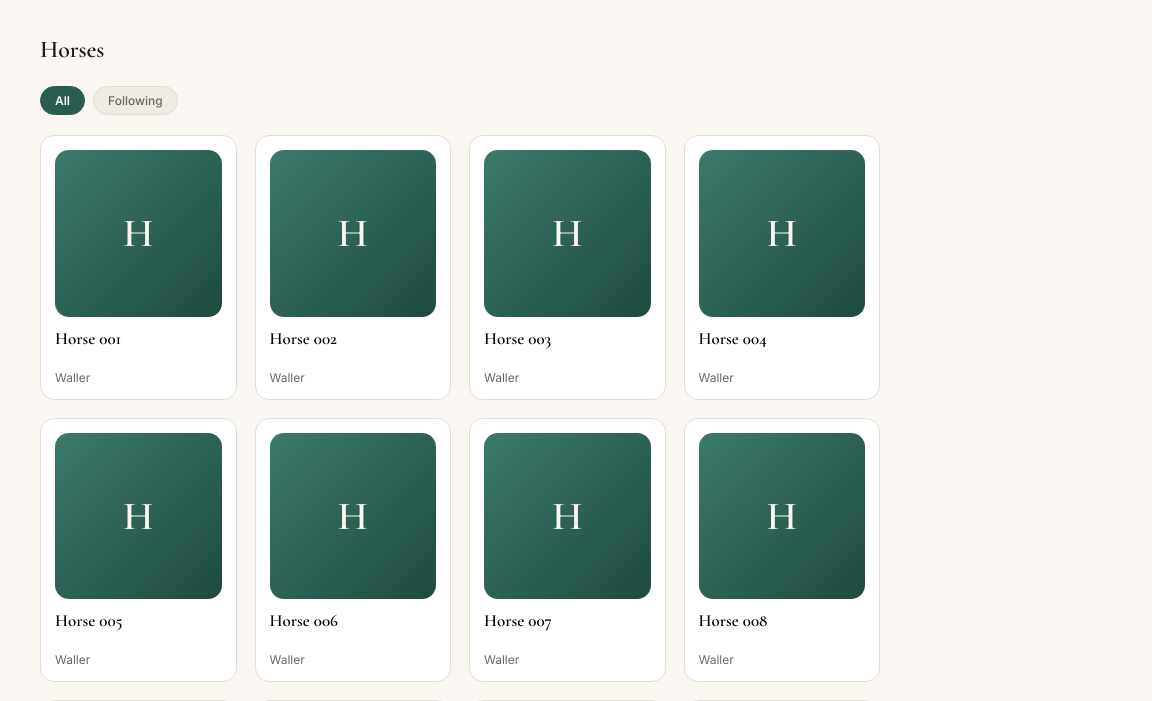
ENG-960 browse paging — the cap bounds the read, the pager keeps every row reachable › paging state resets on the All -> Following pill switch
Expected: the text "Horse 001" is shown, [55,328,121,348]
Click the button with test id "browse-filter-following": (135, 100) [93,86,178,115]
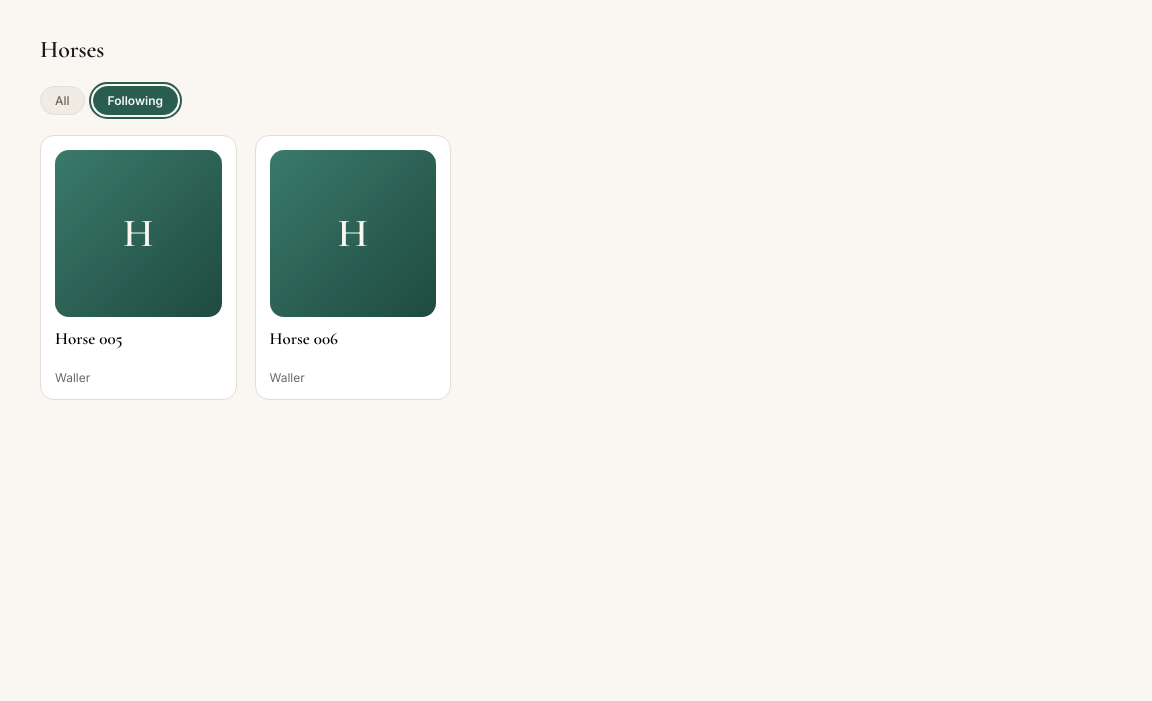
Expected: the text "Horse 005" is shown, [55,328,122,348]
Now the button "Horse 001" is gone
